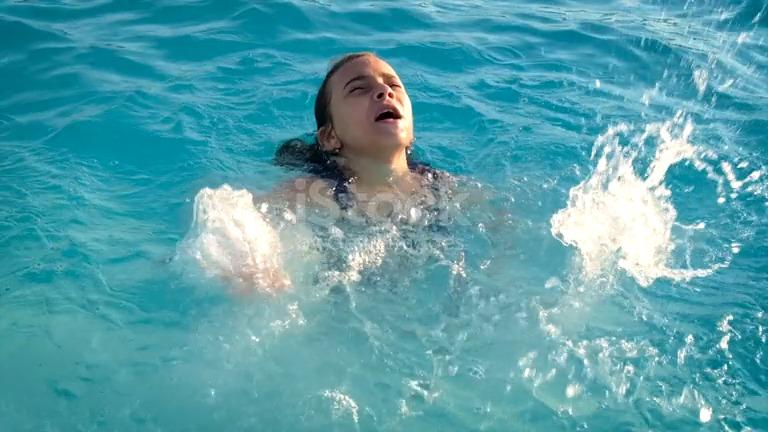Drowning: (79, 12, 625, 313)
